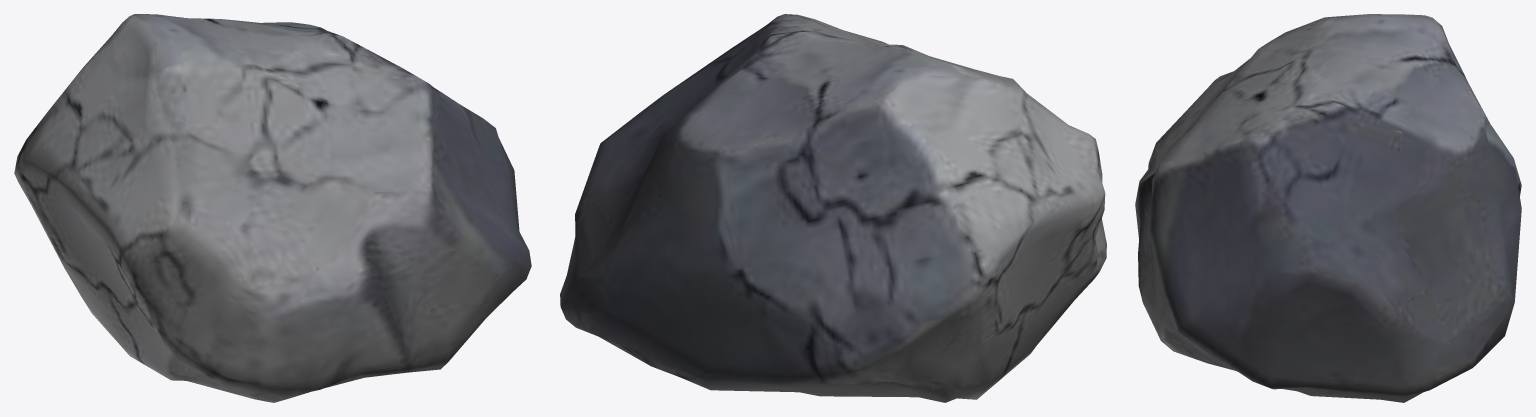
File: rock1.glb
3 renders of one model, left to right at view 1: azimuth 30°, elevation 25°; view 2: azimuth 150°, elevation 25°; view 3: azimuth 270°, elevation 25°, orthographic. The views are drawn at different scales.
Visible parts, largest first — view 1: Mesh0; view 2: Mesh0; view 3: Mesh0.
Part boxes in pixels (<box>): Mesh0: <box>14,14,531,402</box>; Mesh0: <box>560,14,1106,402</box>; Mesh0: <box>1135,14,1521,402</box>.
Bounding box in the file's own units: 11.4 × 8 × 10.17.
1 material, 1 textured.
